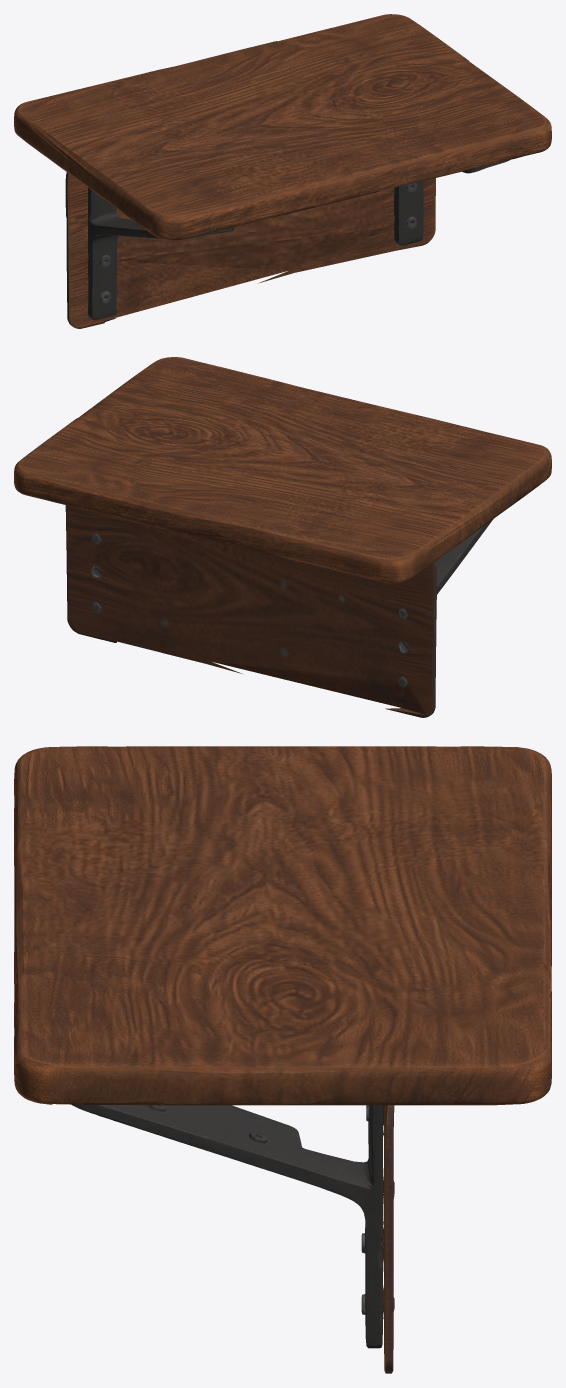
Rendered from remeshed-shelf-10000.glb.
3 renders of one model, top to bottom at view 1: azimuth 30°, elevation 25°; view 2: azimuth 150°, elevation 25°; view 3: azimuth 270°, elevation 25°, orthographic. The views are drawn at different scales.
Visible parts, largest first — view 1: output_unwrapped; view 2: output_unwrapped; view 3: output_unwrapped.
Part boxes in pixels (x1,y1,x2,y2): output_unwrapped: (14, 14, 551, 328); output_unwrapped: (14, 357, 551, 717); output_unwrapped: (14, 746, 551, 1373).
Bounding box in the file's own units: 1.9 × 0.8901 × 1.33.
1 material, 1 textured.
